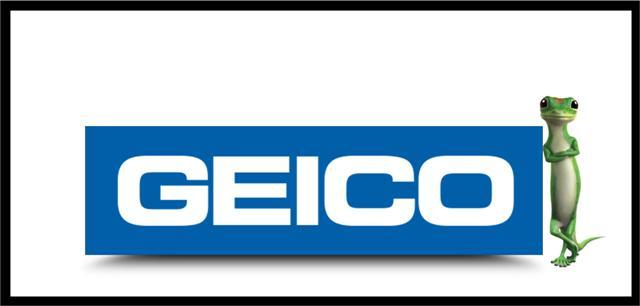geico: (115, 153, 523, 229)
